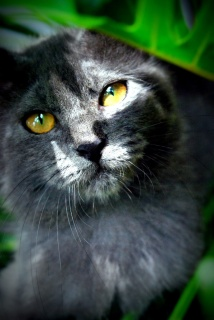Cat: (4, 28, 214, 319)
